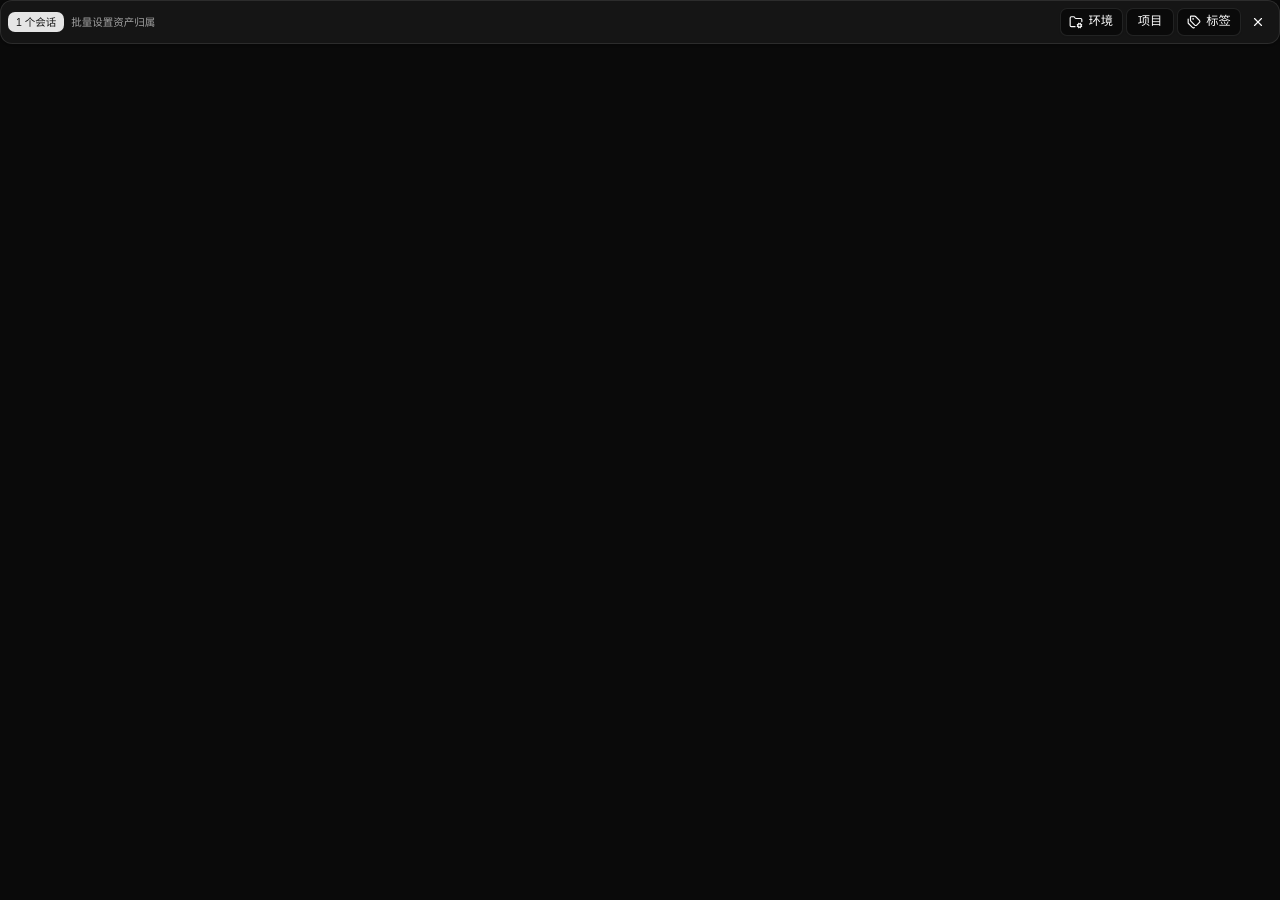
it: SessionAssetBulkBar › closes a stale bulk dialog when selection is cleared
Click the button "环境". click: (1091, 22)
box: [1060, 8, 1123, 36]
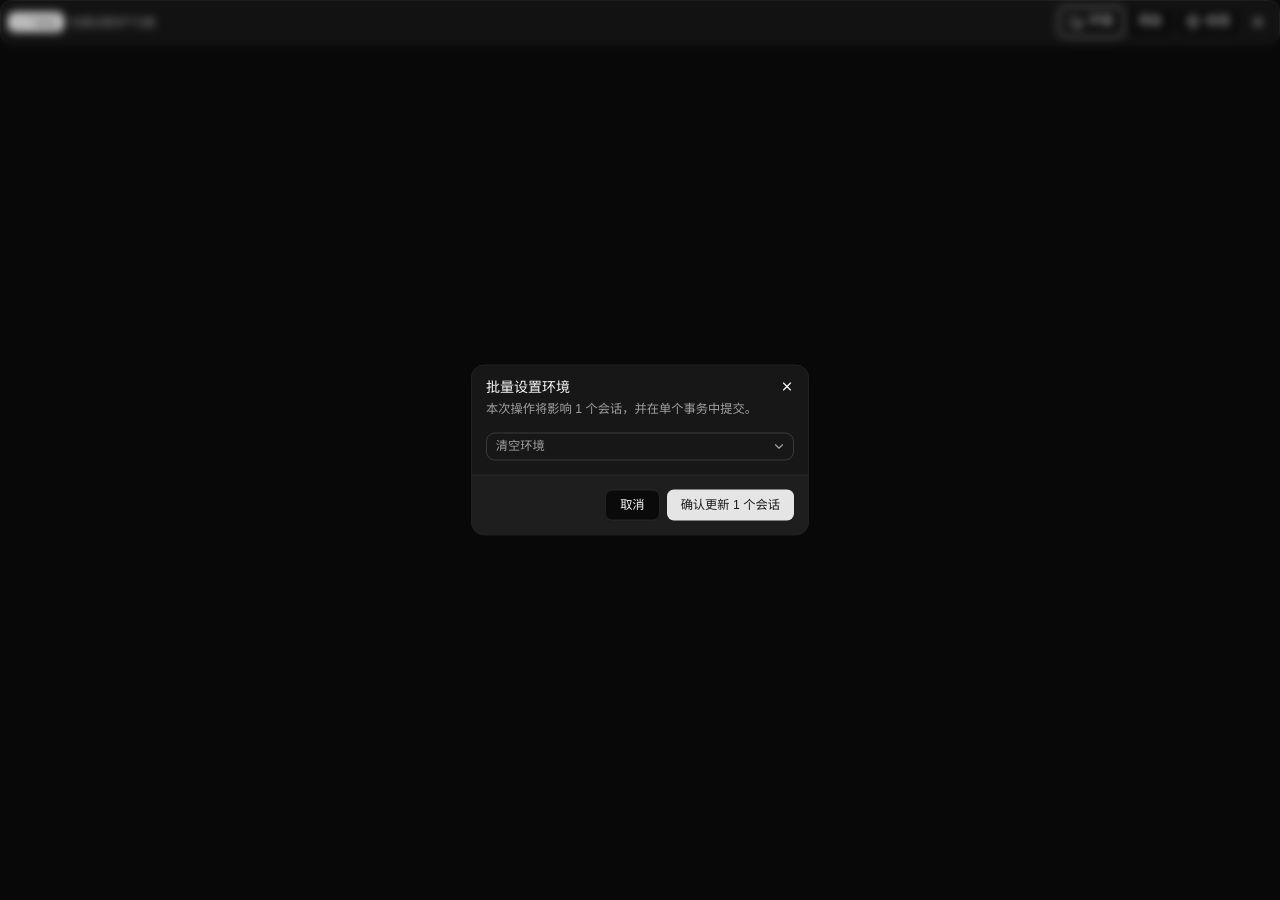
Result: the dialog is shown at [472, 366, 808, 534]
